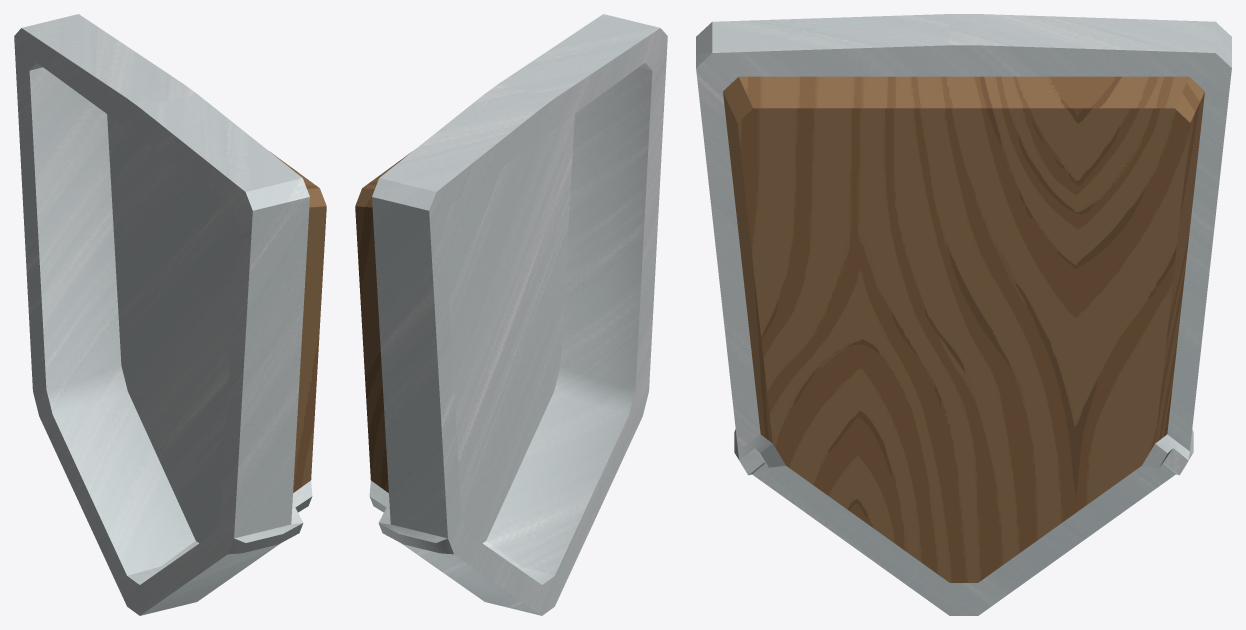
Rendered from ShieldB.fbx.
The picture shows the model from 3 angles, left to right: view 1: azimuth 30°, elevation 25°; view 2: azimuth 150°, elevation 25°; view 3: azimuth 270°, elevation 25°; orthographic projection. The views are drawn at different scales.
Parts seen in each view (by area): view 1: Shield B; view 2: Shield B; view 3: Shield B.
Part boxes in pixels (left/top/right/bottom): Shield B: left=14, top=14, right=326, bottom=615; Shield B: left=355, top=14, right=667, bottom=615; Shield B: left=696, top=14, right=1231, bottom=615.
Bounding box in the file's own units: 0.1652 × 0.8673 × 0.7383.
